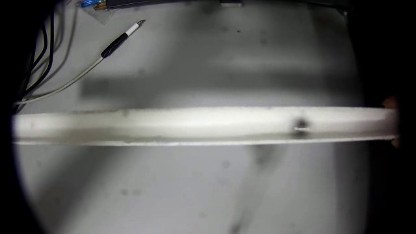gangzhu: (286, 116, 311, 137)
